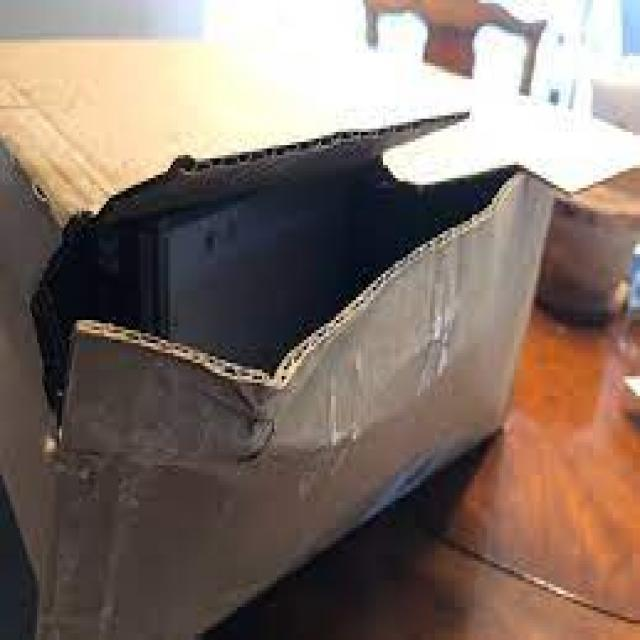hole: (37, 95, 513, 421)
